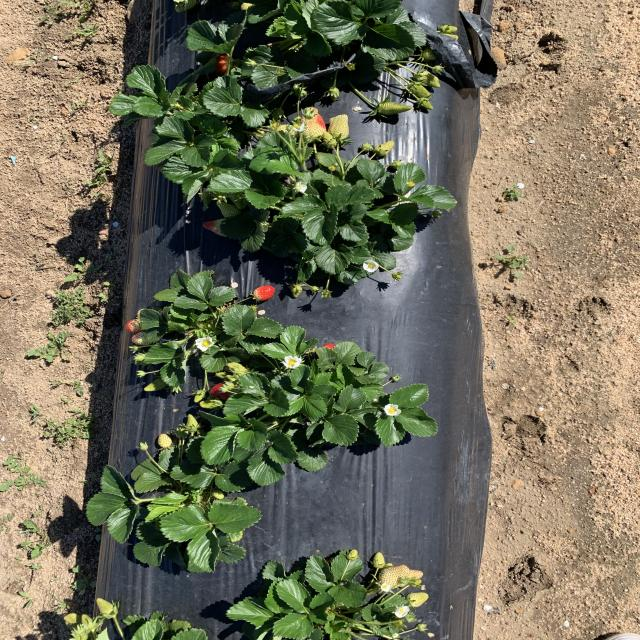unripe: (209, 381, 245, 402), (317, 341, 346, 365), (252, 284, 276, 302), (214, 56, 238, 74)
